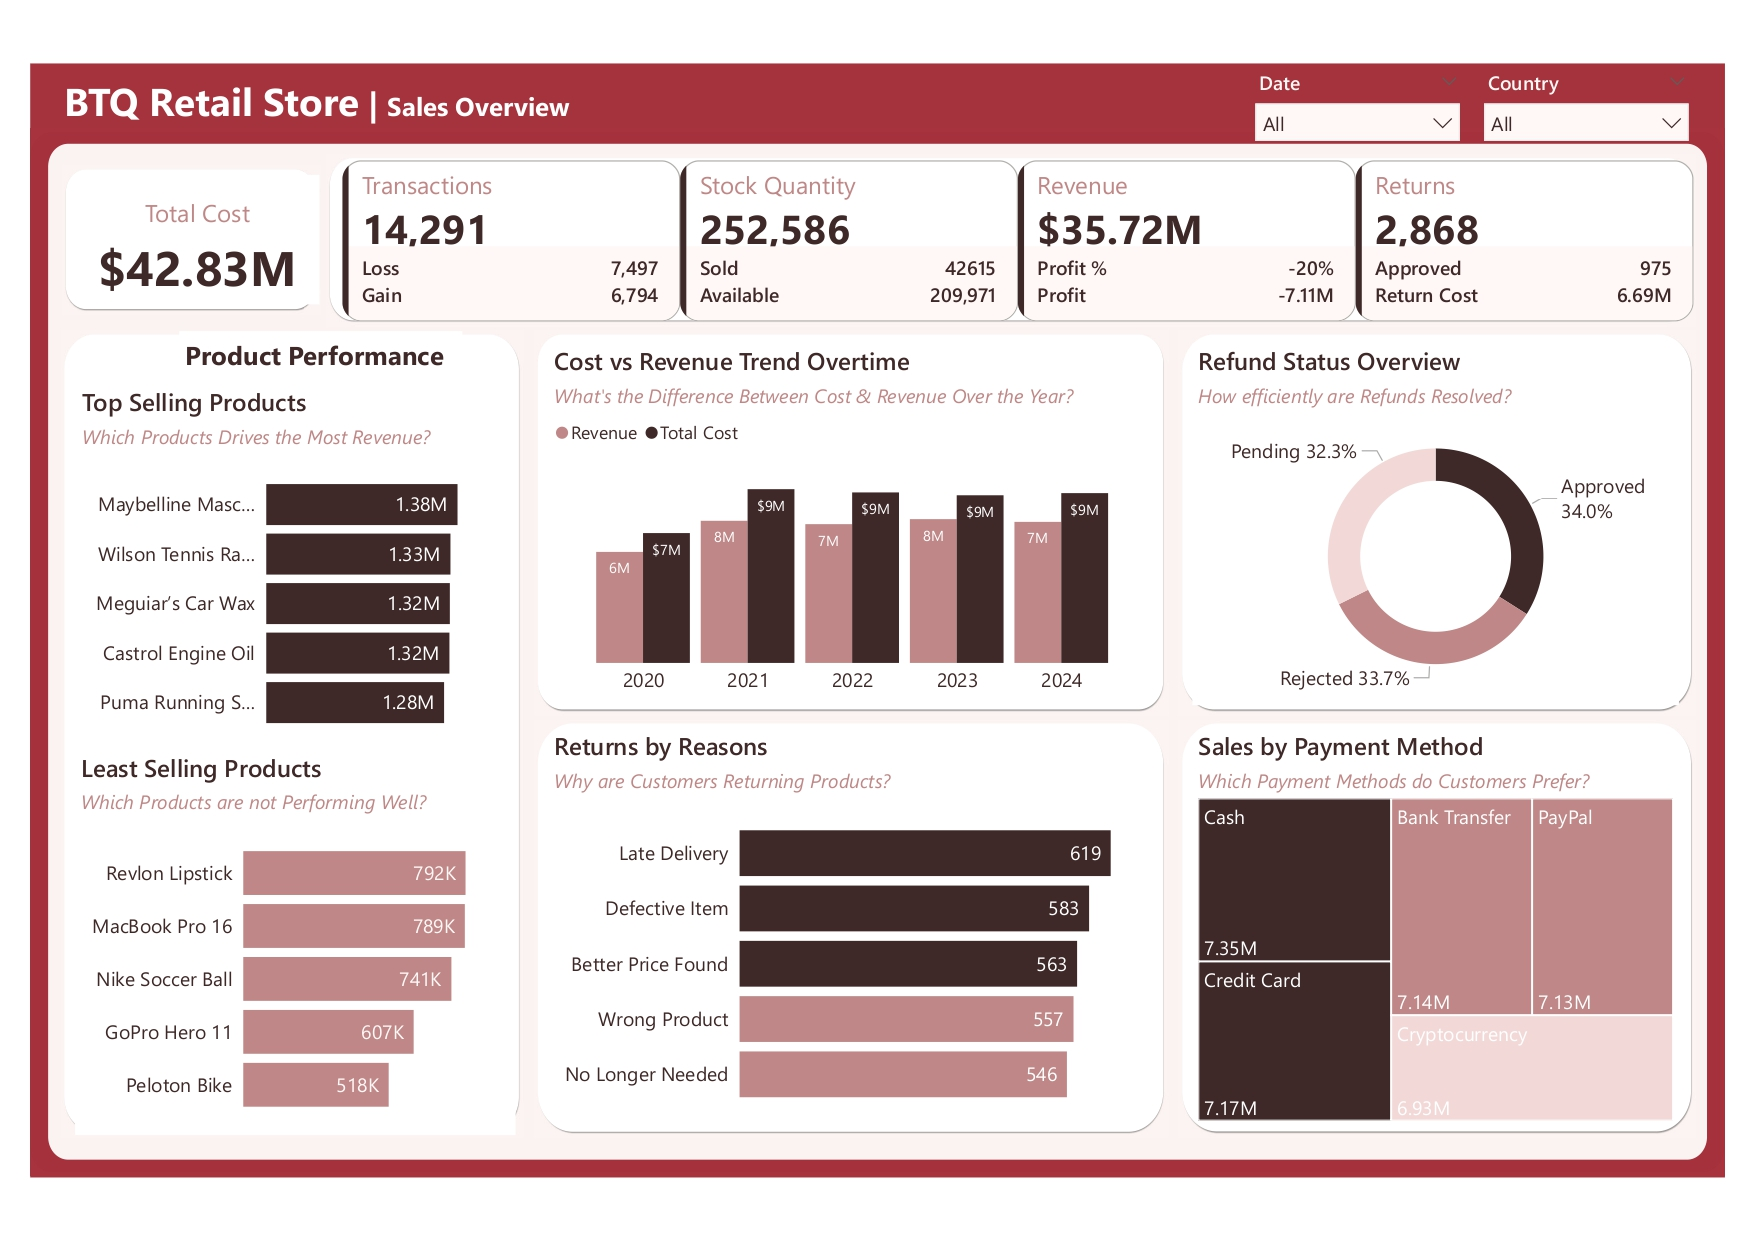

The page's visual inventory and layout, read from the dashboard file:
{"tool":"powerbi","page":{"name":"Page 2","canvas":[1400,920],"ordinal":1},"visuals":[{"type":"textbox","box":[23.4,3.3,558.7,71.9],"z":0},{"type":"cardVisual","fields":{"Data":["New Measures.Total Transactions","New Measures.Total Stock Quantity","New Measures.Total Revenue","New Measures.Total Returns"]},"box":[253.5,75.1,1126.5,142.7],"z":1000},{"type":"barChart","title":"Top Selling Products","fields":{"Category":["Products.Product Name"],"Y":["Sum(Transactions.Total Revenue)"]},"box":[37.6,264.7,364.2,302.3],"z":2000},{"type":"barChart","title":"Least Selling Products","fields":{"Category":["Products.Product Name"],"Y":["Sum(Transactions.Total Revenue)"]},"box":[36.8,567.1,364.7,317.8],"z":3000},{"type":"clusteredColumnChart","title":"Cost vs Revenue Trend Overtime","fields":{"Y":["Sum(Transactions.Total Revenue)","New Measures.Total Cost"],"Category":["DateTable.Date Hierarchy.Year","DateTable.Date Hierarchy.Month","DateTable.Date Hierarchy.Day"]},"box":[428.2,230.8,503.5,299.4],"z":4000},{"type":"barChart","title":"Returns by Reasons","fields":{"Category":["Returns.Reason for Return"],"Y":["CountNonNull(Returns.Return ID)"]},"box":[428.2,548.7,503.5,329.5],"z":5000},{"type":"donutChart","title":"Refund Status Overview","fields":{"Category":["Returns.Refund Status"],"Y":["CountNonNull(Returns.Refund Status)"]},"box":[960.1,230.8,401.5,299.4],"z":6000},{"type":"treemap","title":"Sales by Payment Method","fields":{"Group":["Transactions.Payment Method"],"Values":["Sum(Transactions.Total Revenue)"]},"box":[960.1,548.7,401.5,329.5],"z":7000},{"type":"cardVisual","fields":{"Data":["New Measures.Total Cost"]},"box":[36.8,92,202.4,107.1],"z":8000},{"type":"textbox","box":[122.7,220.9,234,39.3],"z":9000},{"type":"slicer","fields":{"Values":["Customers.Country","Customers.State"]},"box":[1191,0,189,71.9],"z":10000},{"type":"slicer","fields":{"Values":["Customers.Registration Date.Variation.Date Hierarchy.Year","Customers.Registration Date.Variation.Date Hierarchy.Quarter","Customers.Registration Date.Variation.Date Hierarchy.Month","Customers.Registration Date.Variation.Date Hierarchy.Day"]},"box":[1002,0,189,71.9],"z":11000}]}

Visuals, with their boxes on the page's 1400x920 design canvas (x1, y1, x2, y2). These are canvas units, not pixel positions in the 1755x1241 screenshot, which may show the page scaled, cropped or inside an application window:
textbox: [23, 3, 582, 75]
cardVisual - New Measures.Total Transactions x New Measures.Total Stock Quantity: [254, 75, 1380, 218]
"Top Selling Products" barChart: [38, 265, 402, 567]
"Least Selling Products" barChart: [37, 567, 402, 885]
"Cost vs Revenue Trend Overtime" clusteredColumnChart: [428, 231, 932, 530]
"Returns by Reasons" barChart: [428, 549, 932, 878]
"Refund Status Overview" donutChart: [960, 231, 1362, 530]
"Sales by Payment Method" treemap: [960, 549, 1362, 878]
cardVisual - New Measures.Total Cost: [37, 92, 239, 199]
textbox: [123, 221, 357, 260]
slicer - Customers.Country x Customers.State: [1191, 0, 1380, 72]
slicer - Customers.Registration Date.Variation.Date Hierarchy.Year x Customers.Registration Date.Variation.Date Hierarchy.Quarter: [1002, 0, 1191, 72]
